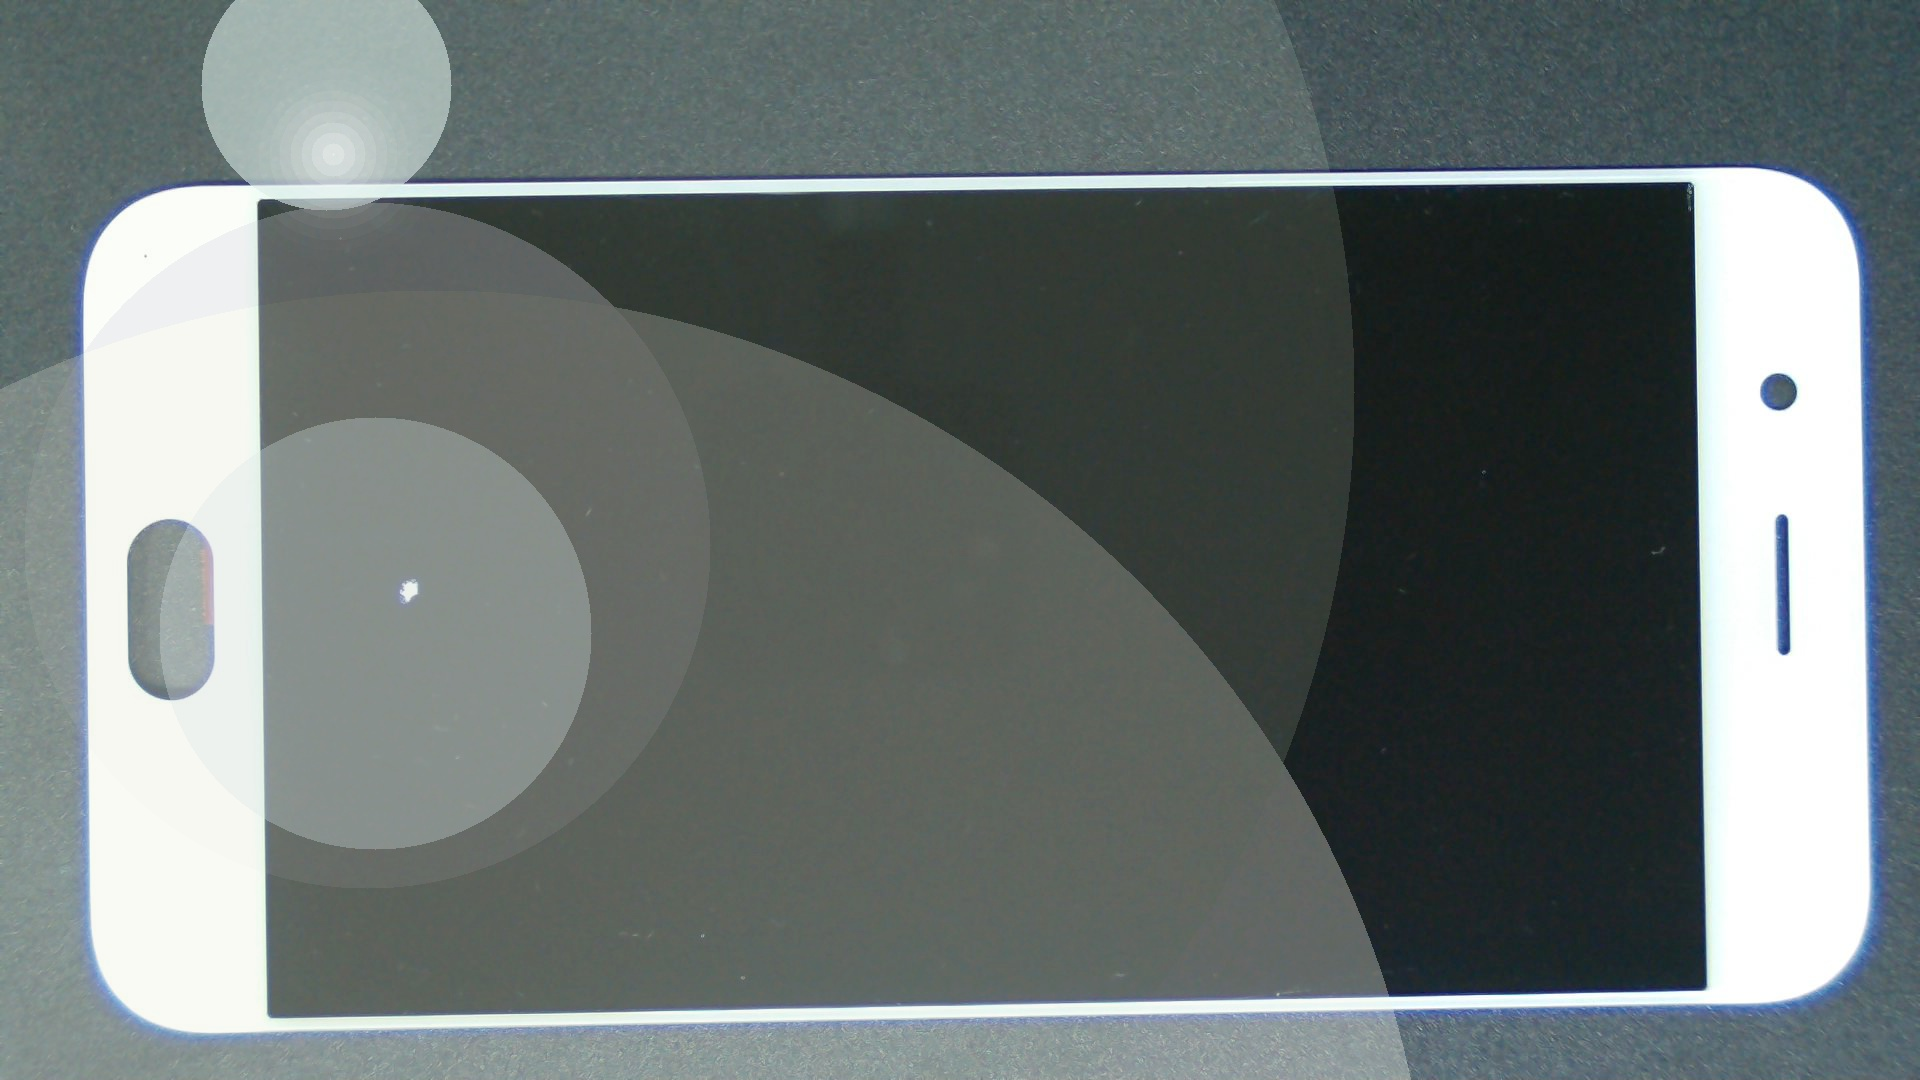oil: (207, 287, 621, 866)
